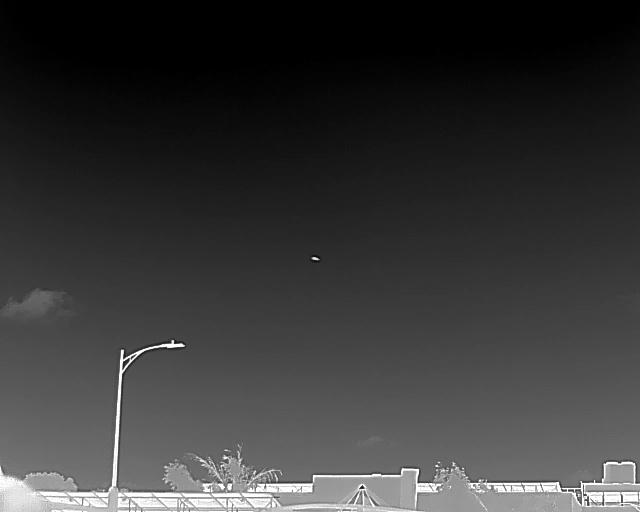fpv-drone: (310, 255, 320, 261)
